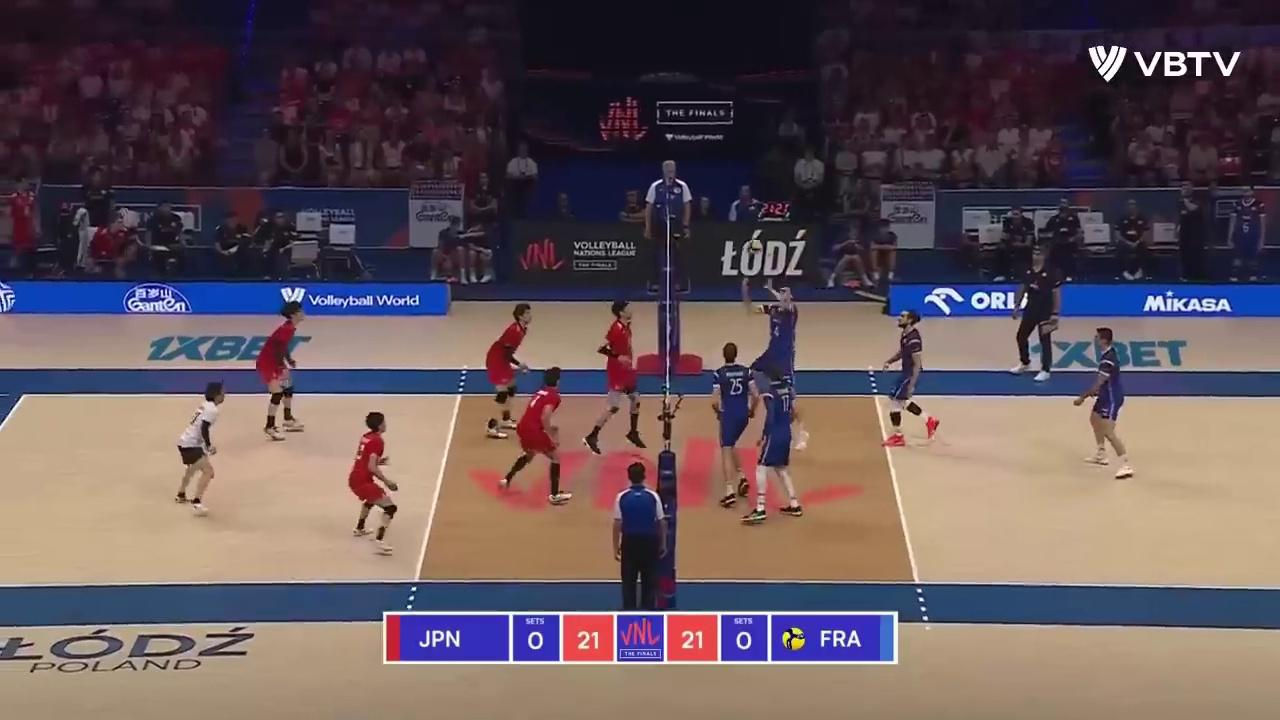ball: (748, 240, 762, 254)
